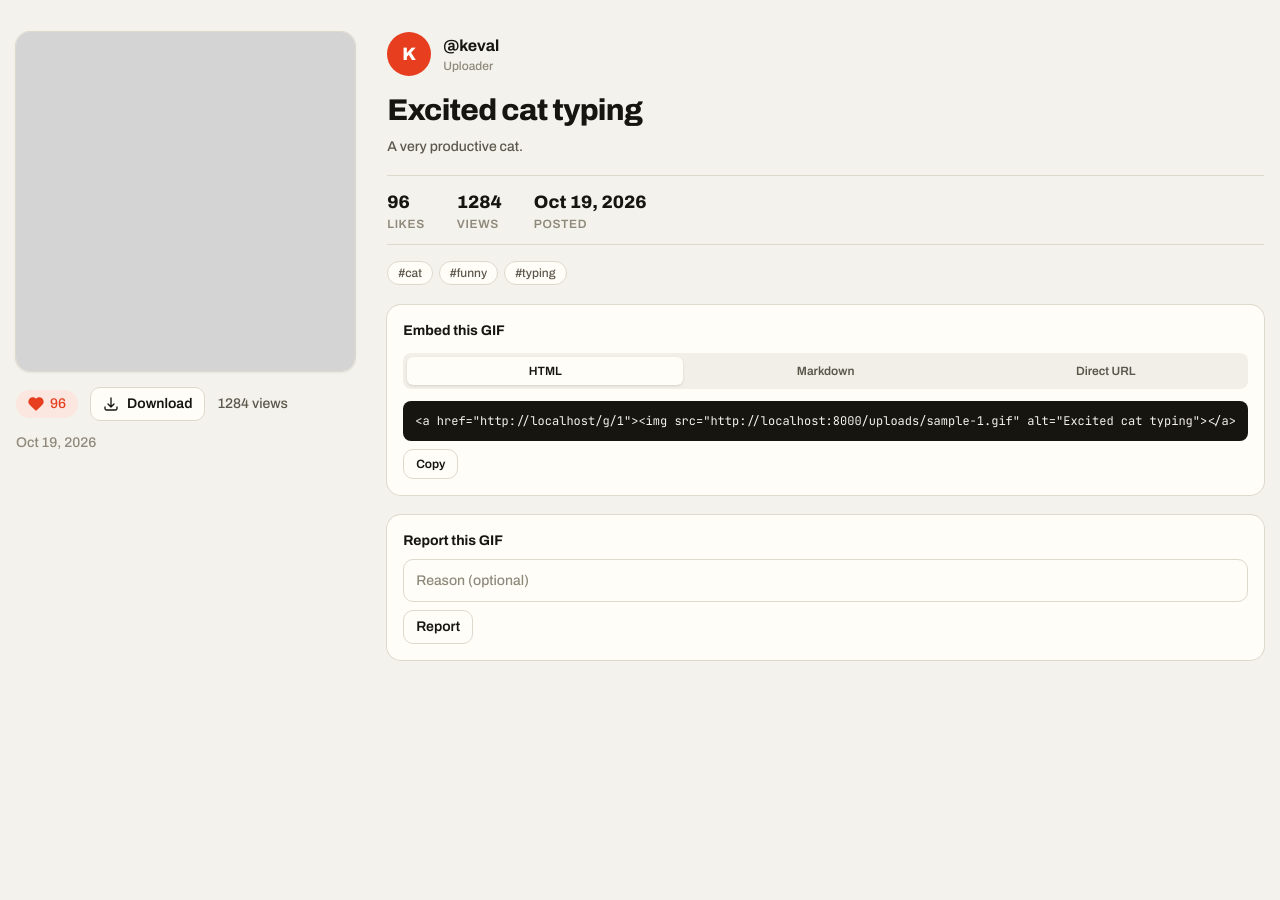
Test: GifDetailPage › records a report with an optional reason
The width and height of the screenshot is (1280, 900).
In the field named "Report reason": [826, 580] box [403,559,1248,602], type "spam"
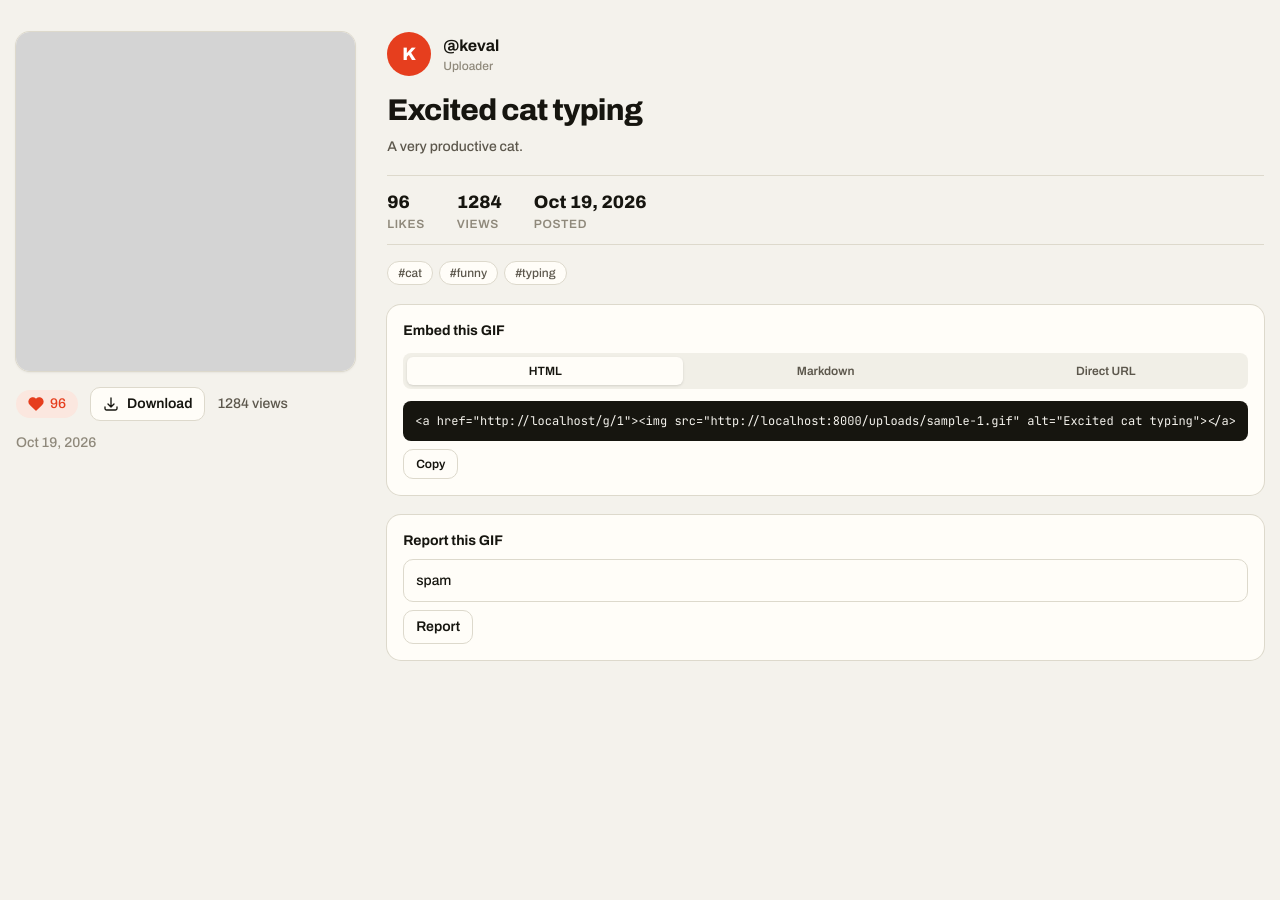
Submit the form, box [403,559,1248,644]
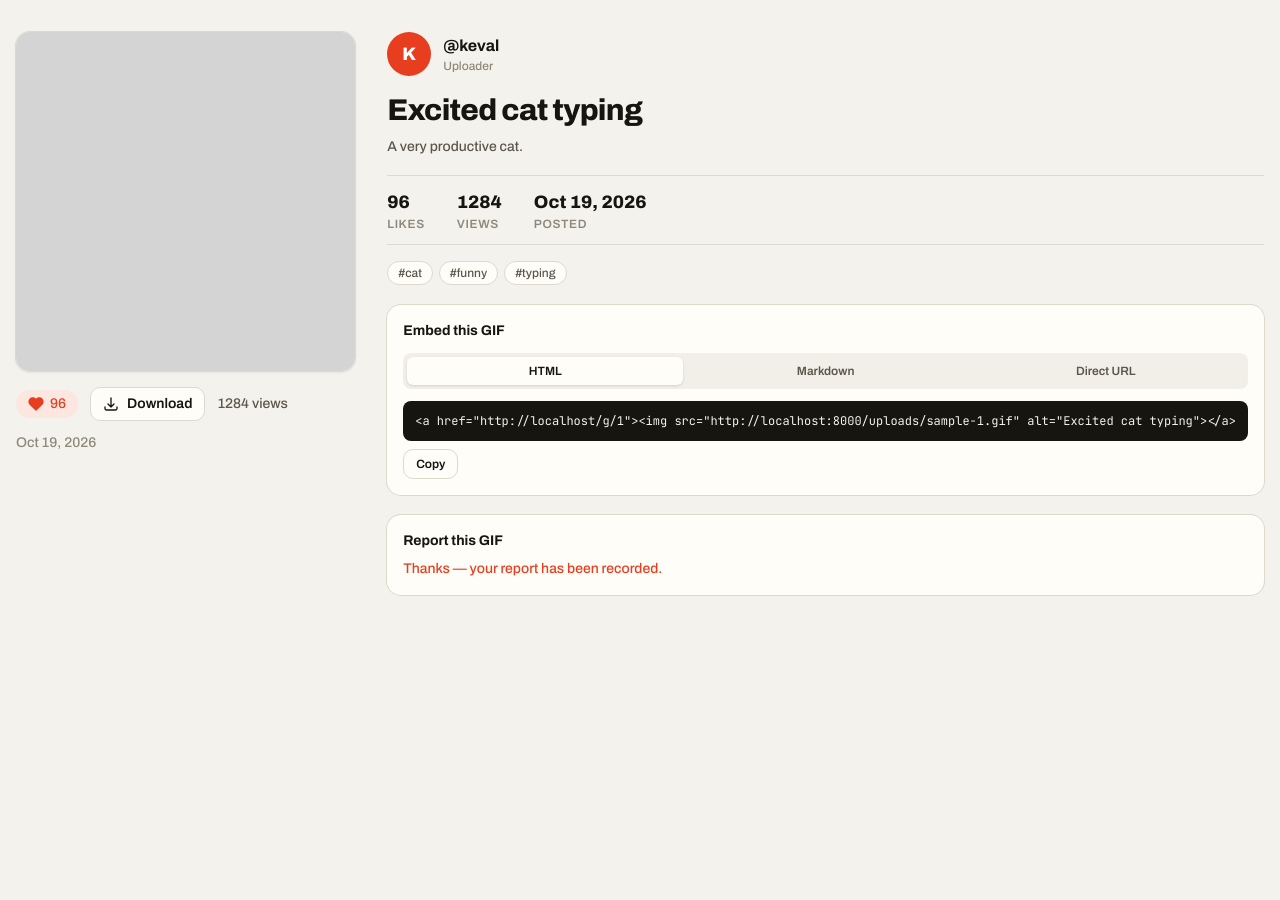
Now the text "report has been recorded" is shown, box [403,561,662,576]
